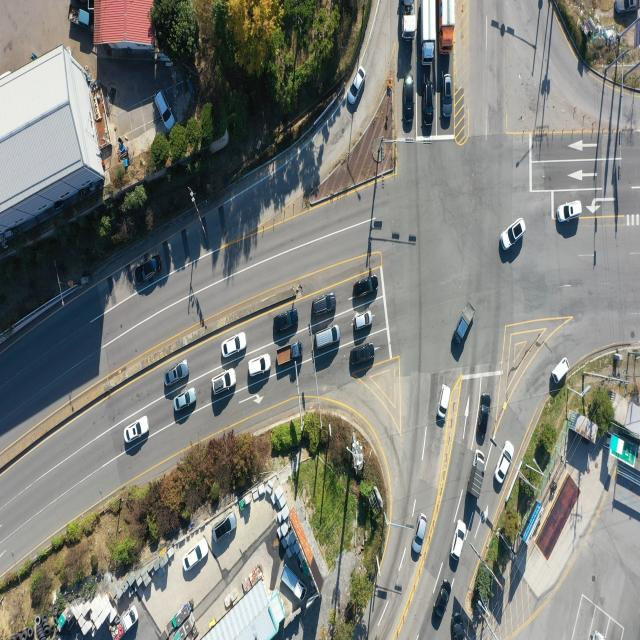car: (180, 536, 209, 575), (500, 218, 524, 252), (495, 441, 514, 483), (157, 89, 176, 130), (348, 65, 367, 105), (478, 395, 492, 445), (138, 257, 162, 285), (213, 516, 236, 545), (451, 519, 467, 560), (223, 334, 247, 361), (436, 582, 453, 620), (313, 325, 339, 349), (352, 275, 378, 299), (126, 417, 150, 443), (350, 344, 376, 368), (314, 292, 339, 316), (413, 514, 428, 554), (166, 361, 190, 386), (211, 369, 235, 394), (405, 74, 416, 128), (424, 74, 435, 128), (274, 313, 299, 336), (551, 358, 570, 388), (557, 201, 581, 223), (443, 74, 454, 120), (249, 354, 271, 376), (439, 384, 452, 420), (175, 388, 196, 410), (452, 610, 465, 640), (354, 312, 372, 330), (616, 0, 638, 14)
medium_truck: (420, 0, 439, 63), (442, 0, 458, 57), (403, 0, 417, 44)
small_truck: (455, 299, 477, 344), (111, 605, 138, 640), (281, 568, 307, 600), (469, 450, 485, 497), (276, 342, 302, 367), (68, 6, 92, 29)
